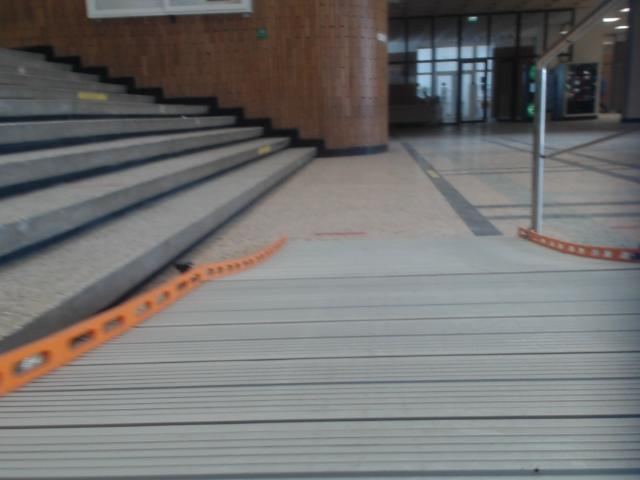rampDown: (0, 234, 639, 479)
ramps-railing: (530, 0, 637, 234)
